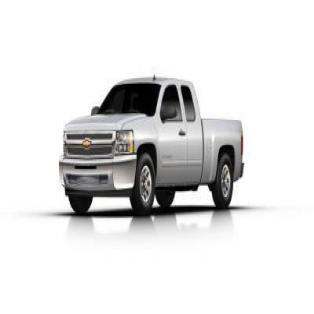Auto: (58, 68, 246, 218)
